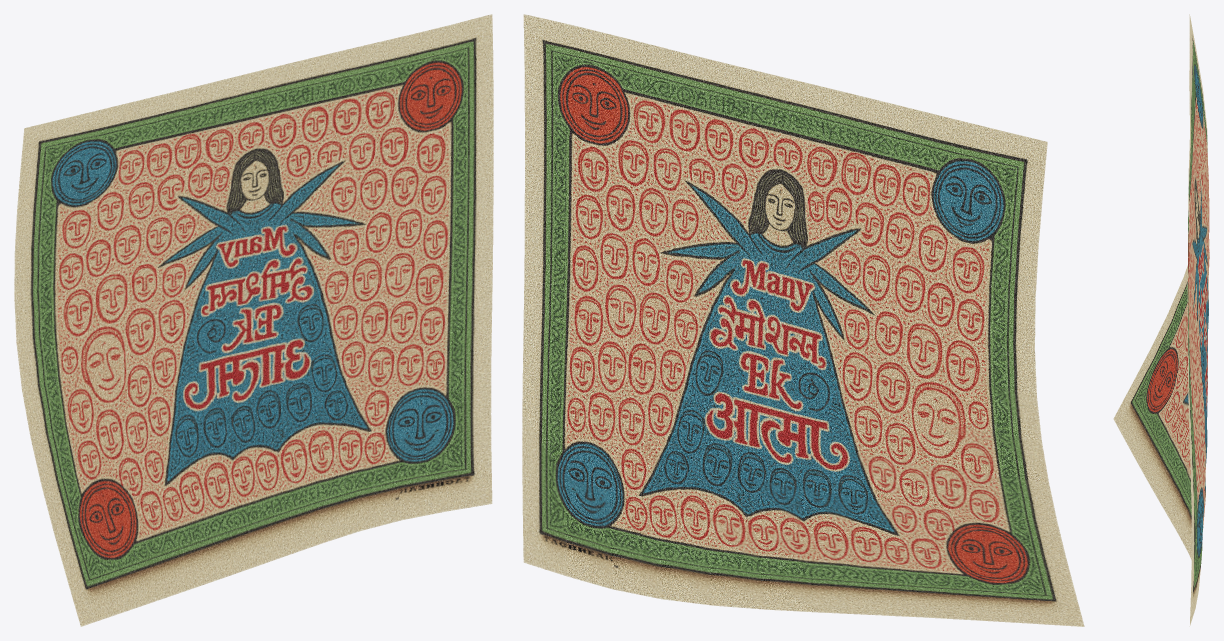
Rendered from scarf4.glb.
3 renders of one model, left to right at view 1: azimuth 30°, elevation 25°; view 2: azimuth 150°, elevation 25°; view 3: azimuth 270°, elevation 25°, orthographic. The views are drawn at different scales.
Visible parts, largest first — view 1: Plane; view 2: Plane; view 3: Plane.
Boxes of the visible parts, x1,y1,x2,y2 form: Plane: (14, 14, 493, 626); Plane: (522, 14, 1084, 626); Plane: (1113, 14, 1209, 626).
Size of the model in its own units: 2 by 2 by 0.4172.
1 material, 1 textured.
